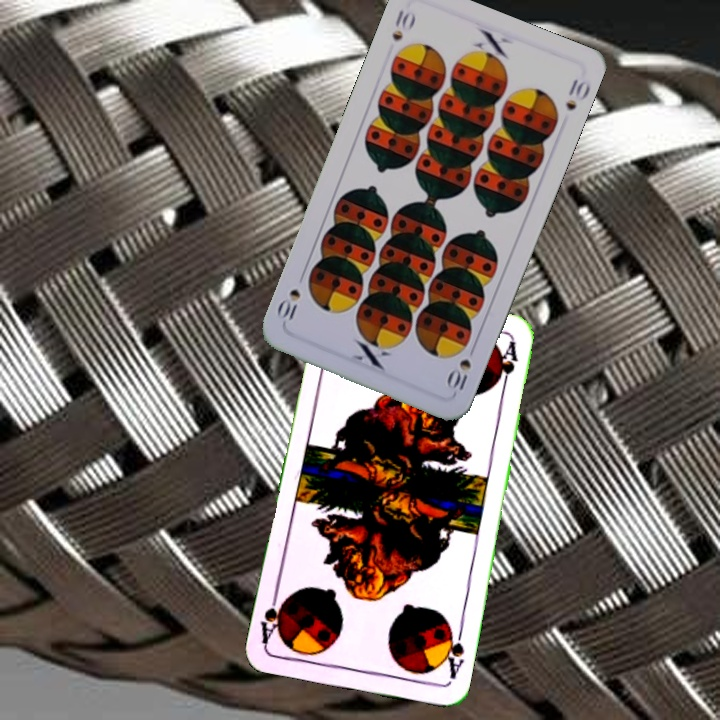S10: (443, 340, 479, 397), (388, 5, 418, 44)
SA: (438, 622, 467, 682)
